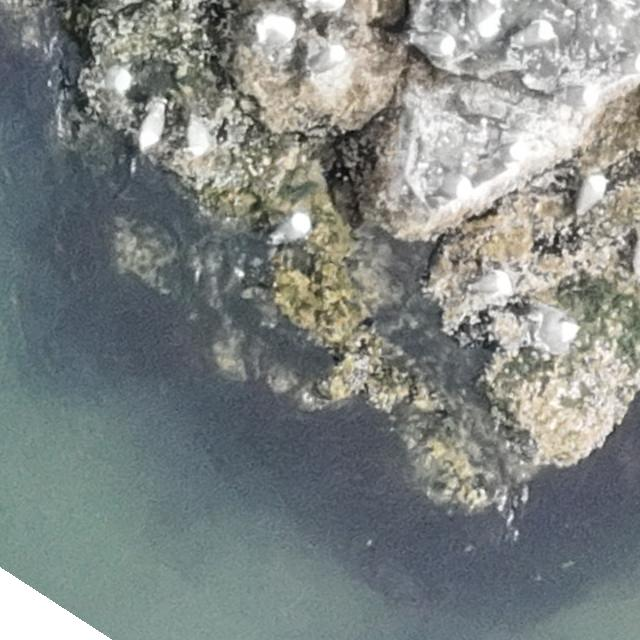umineko: (535, 309, 576, 356), (136, 97, 168, 151), (254, 13, 294, 48), (576, 175, 608, 218), (306, 42, 344, 77), (426, 173, 475, 200), (406, 30, 456, 56), (516, 17, 555, 49), (556, 82, 602, 108), (274, 212, 311, 244), (471, 272, 513, 299), (97, 68, 134, 92), (190, 119, 211, 158)
